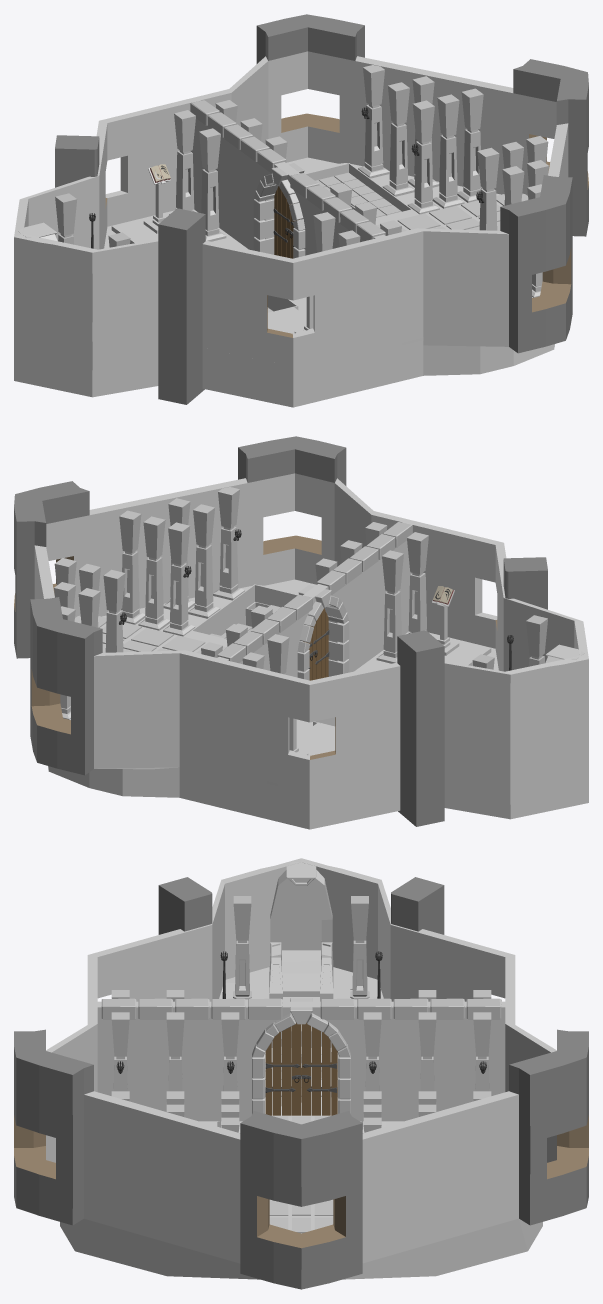
Rendered from secondfloortest.fbx.
3 views of the same model, one above another, from view 1: azimuth 30°, elevation 25°; view 2: azimuth 150°, elevation 25°; view 3: azimuth 270°, elevation 25° (orthographic). The views are drawn at different scales.
Parts seen in each view (by area): view 1: SecondFloor, WALL3, WALL1, WALL2, lvl8; view 2: SecondFloor, WALL3, WALL2, WALL1; view 3: SecondFloor, WALL1, WALL2, WALL3.
Boxes of the visible parts, x1=… form: SecondFloor: x1=18, y1=65, x2=554, y2=407; WALL3: x1=14, y1=121, x2=293, y2=407; WALL1: x1=229, y1=14, x2=587, y2=195; WALL2: x1=417, y1=72, x2=588, y2=353; lvl8: x1=315, y1=172, x2=401, y2=217; SecondFloor: x1=48, y1=487, x2=584, y2=829; WALL3: x1=309, y1=543, x2=588, y2=829; WALL2: x1=15, y1=436, x2=373, y2=617; WALL1: x1=14, y1=494, x2=185, y2=775; SecondFloor: x1=60, y1=862, x2=542, y2=1279; WALL1: x1=301, y1=1024, x2=588, y2=1289; WALL2: x1=14, y1=1024, x2=301, y2=1289; WALL3: x1=88, y1=858, x2=514, y2=1001.
Size of the model in its own units: 375 by 109 by 295.
